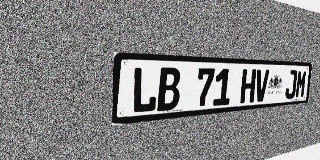1: (213, 69, 232, 106)
7: (195, 68, 215, 108)
B: (157, 67, 181, 111)
H: (240, 69, 256, 103)
J: (285, 70, 298, 99)
L: (131, 67, 158, 114)
M: (295, 70, 307, 98)
V: (254, 69, 269, 102)
